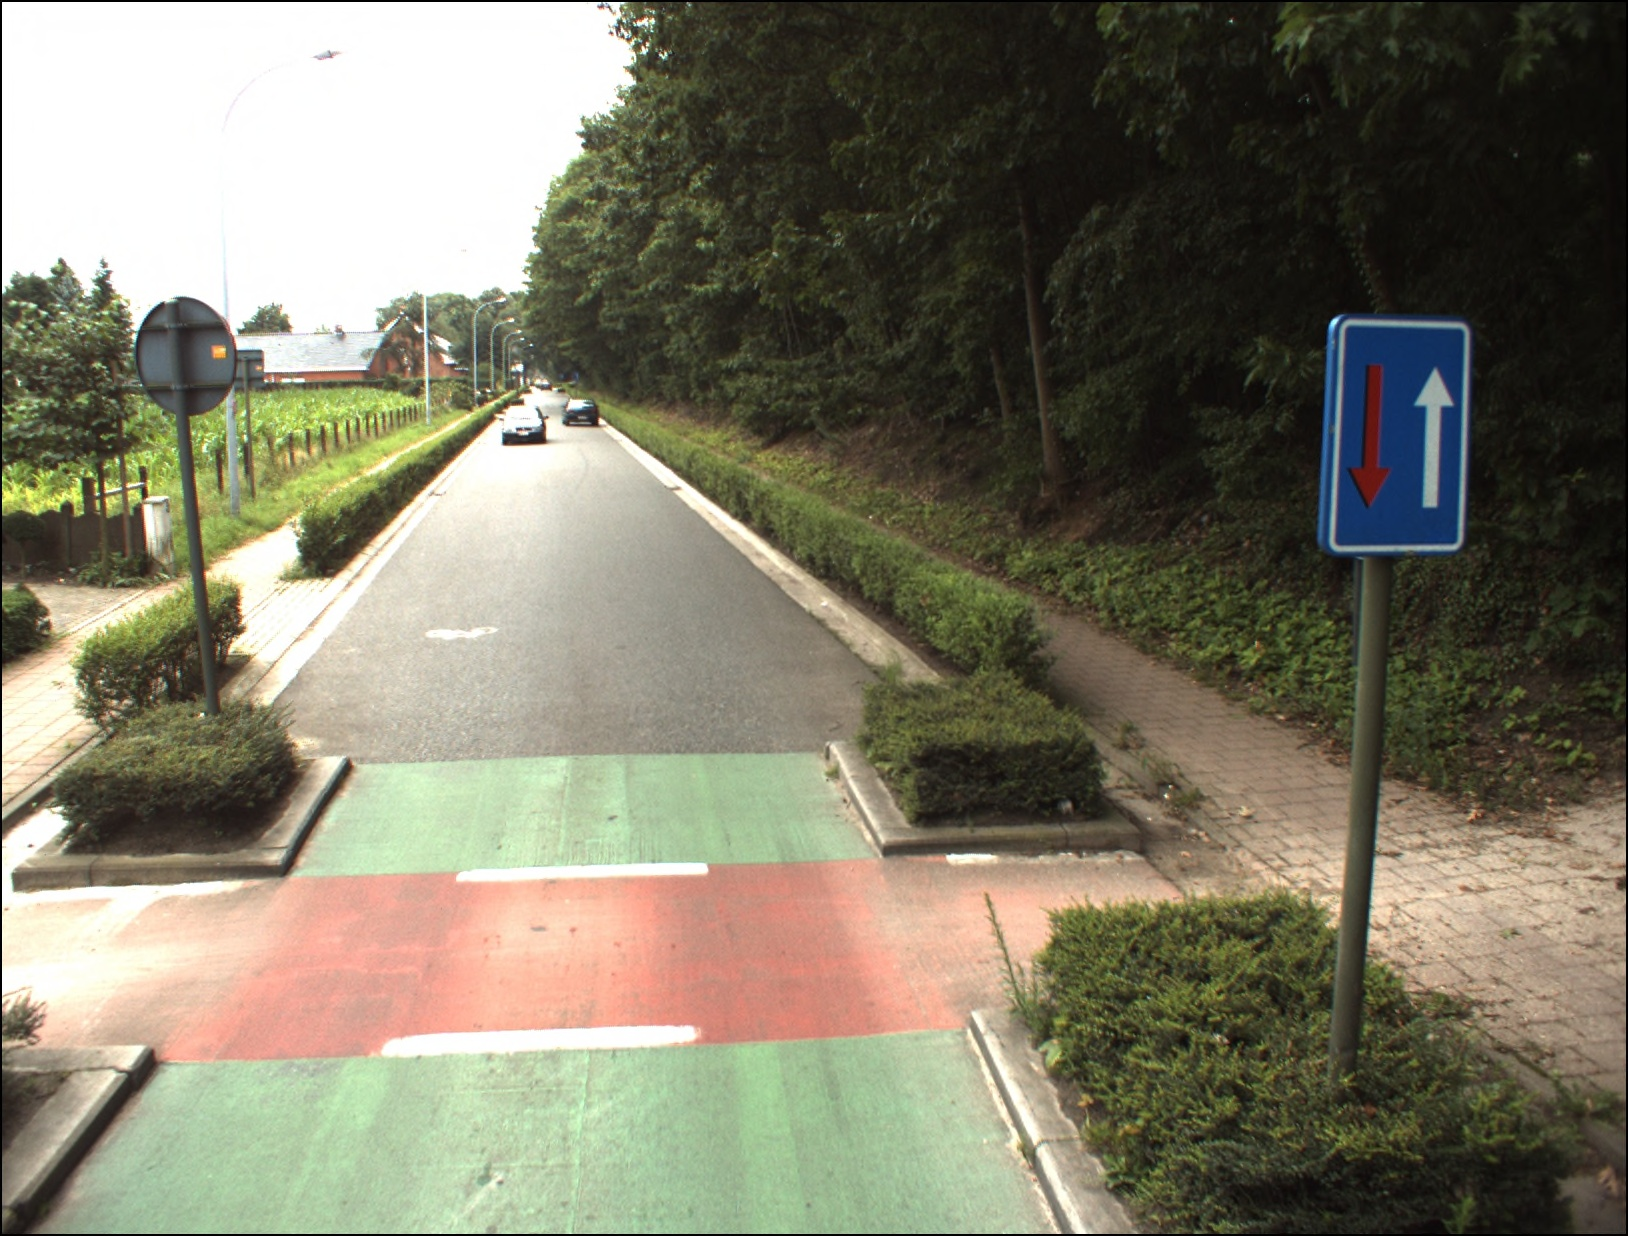roadnarrow1: (1332, 312, 1463, 545)
